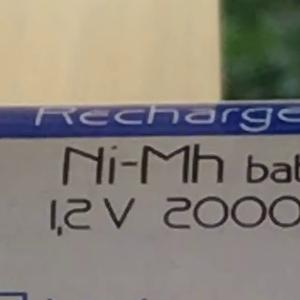keyword: (52, 134, 229, 196)
